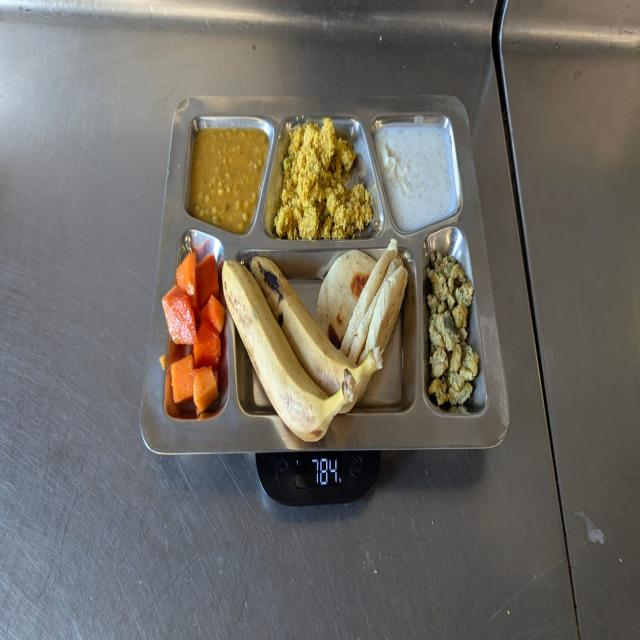Banana: (222, 257, 382, 443)
Egg Bhurji: (426, 247, 480, 408)
Papaya: (161, 247, 222, 411)
